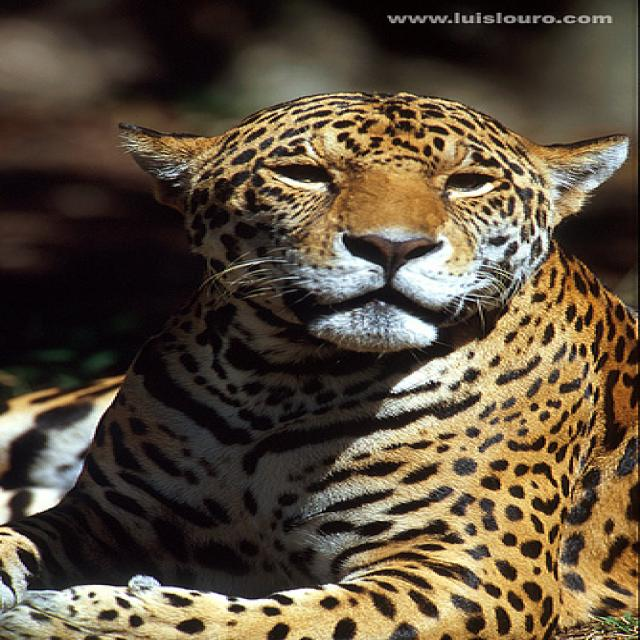Leopard: (0, 83, 634, 636)
